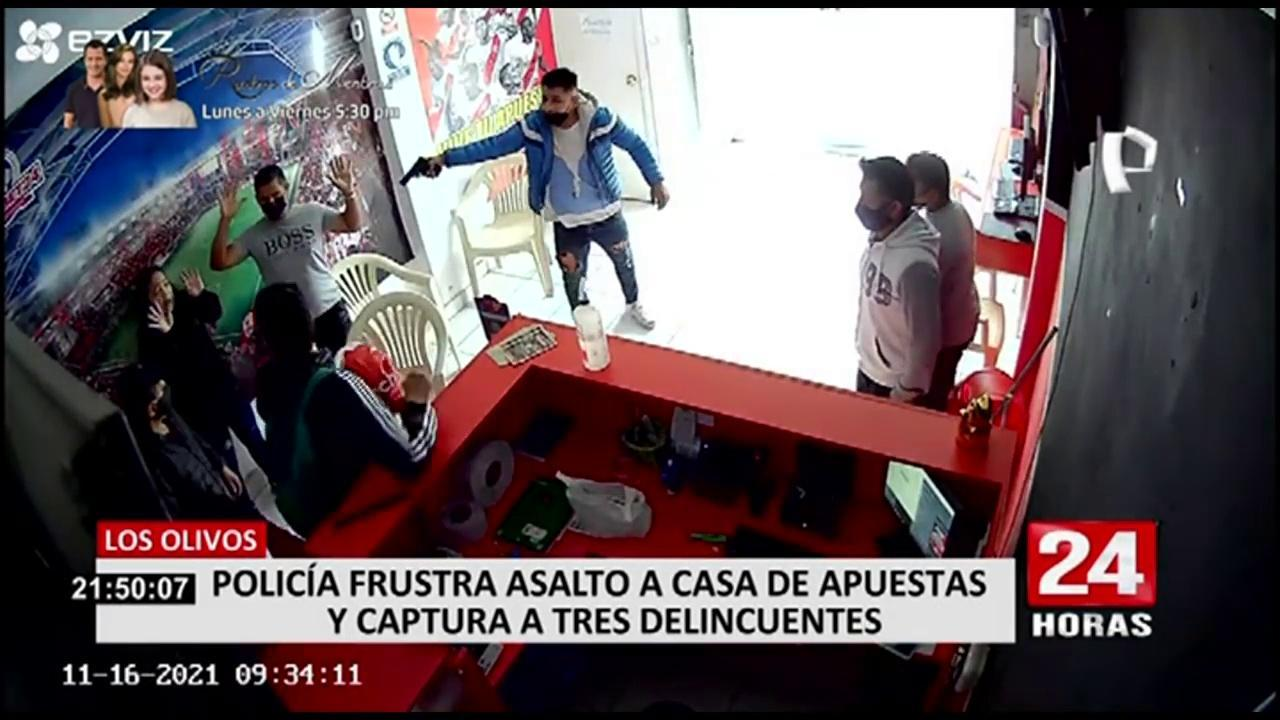Guns: (389, 142, 451, 195)
